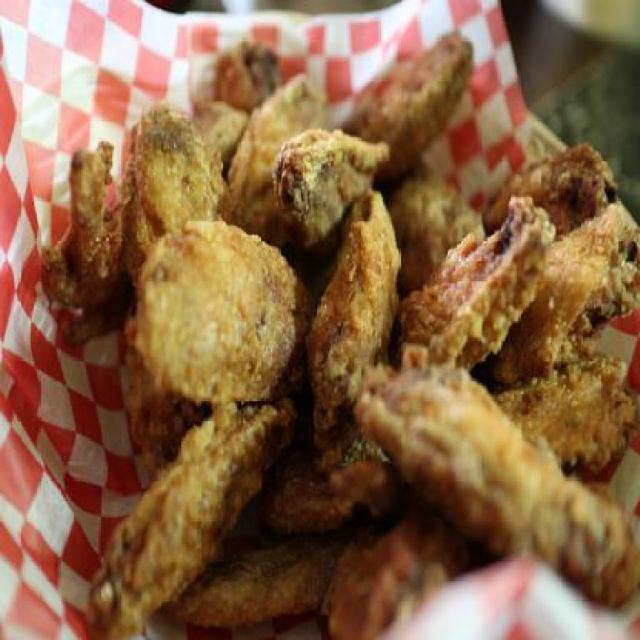Deep fried chicken wing: (53, 47, 627, 584)
